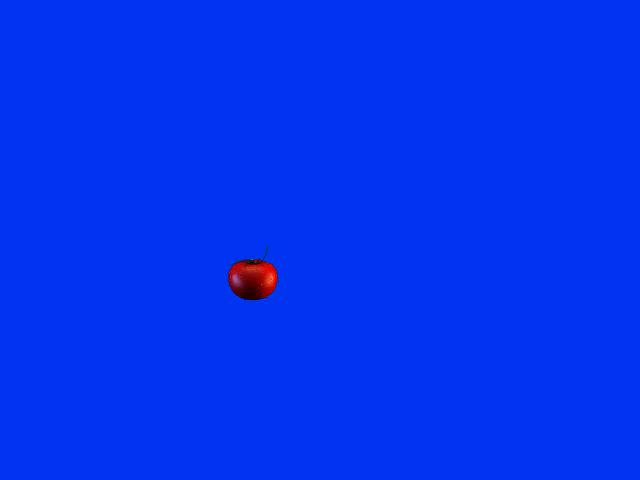tomato: (227, 260, 276, 300)
